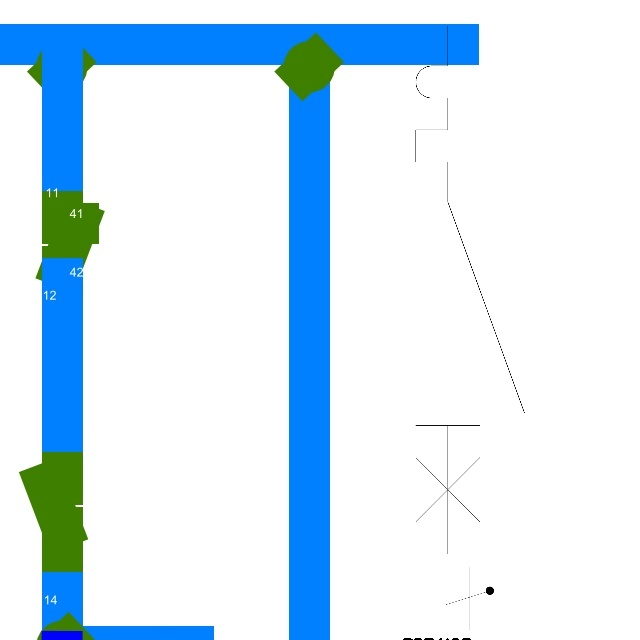interruptor_termomagnetico: (402, 12, 538, 567)
